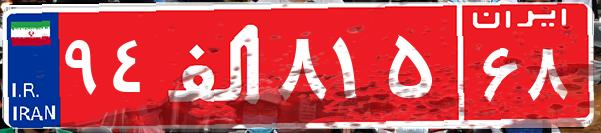1: (330, 28, 385, 110)
4: (110, 28, 158, 105)
5: (385, 28, 445, 110)
6: (475, 38, 525, 113)
8: (273, 28, 330, 110), (525, 38, 570, 115)
9: (57, 26, 110, 107)
الف: (158, 15, 273, 115)
